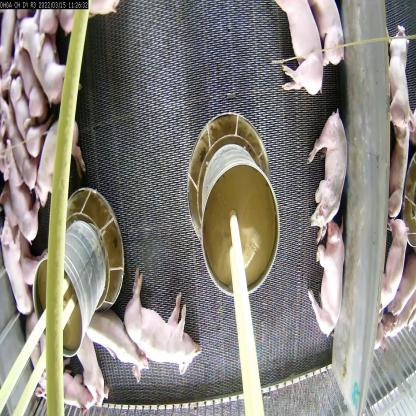Pig: (125, 274, 202, 374), (18, 21, 81, 118), (271, 0, 324, 104), (306, 111, 350, 233), (306, 214, 344, 344), (88, 304, 147, 386), (0, 142, 45, 244), (35, 112, 85, 203), (0, 211, 31, 320), (308, 0, 353, 73), (78, 332, 107, 402)
